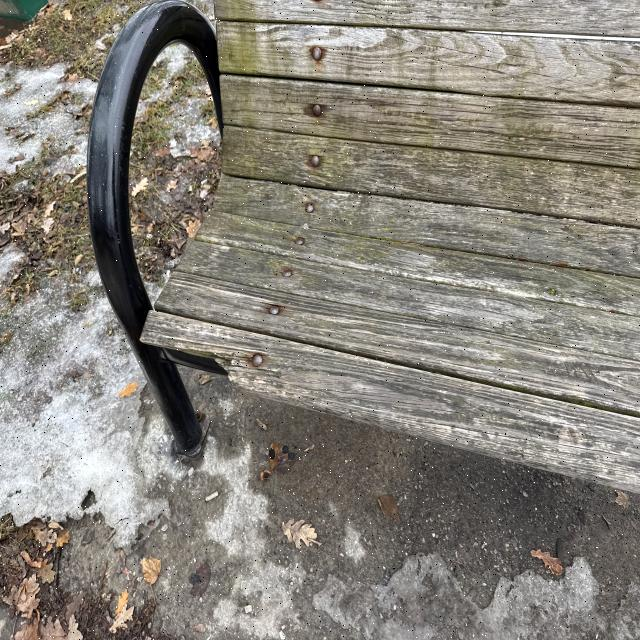Bench: (83, 6, 638, 468)
